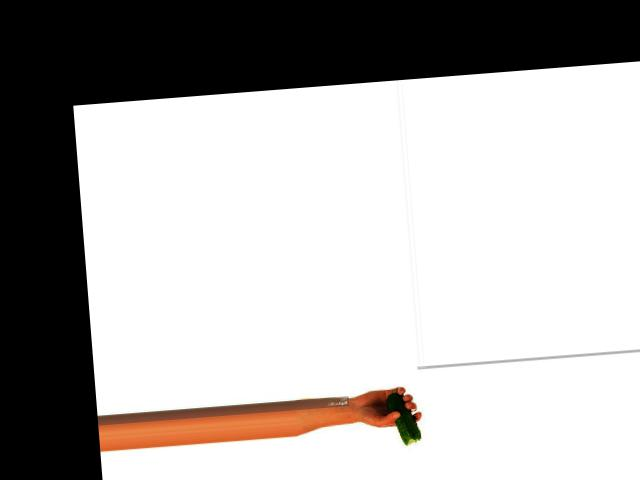cucumber: (385, 389, 420, 446)
